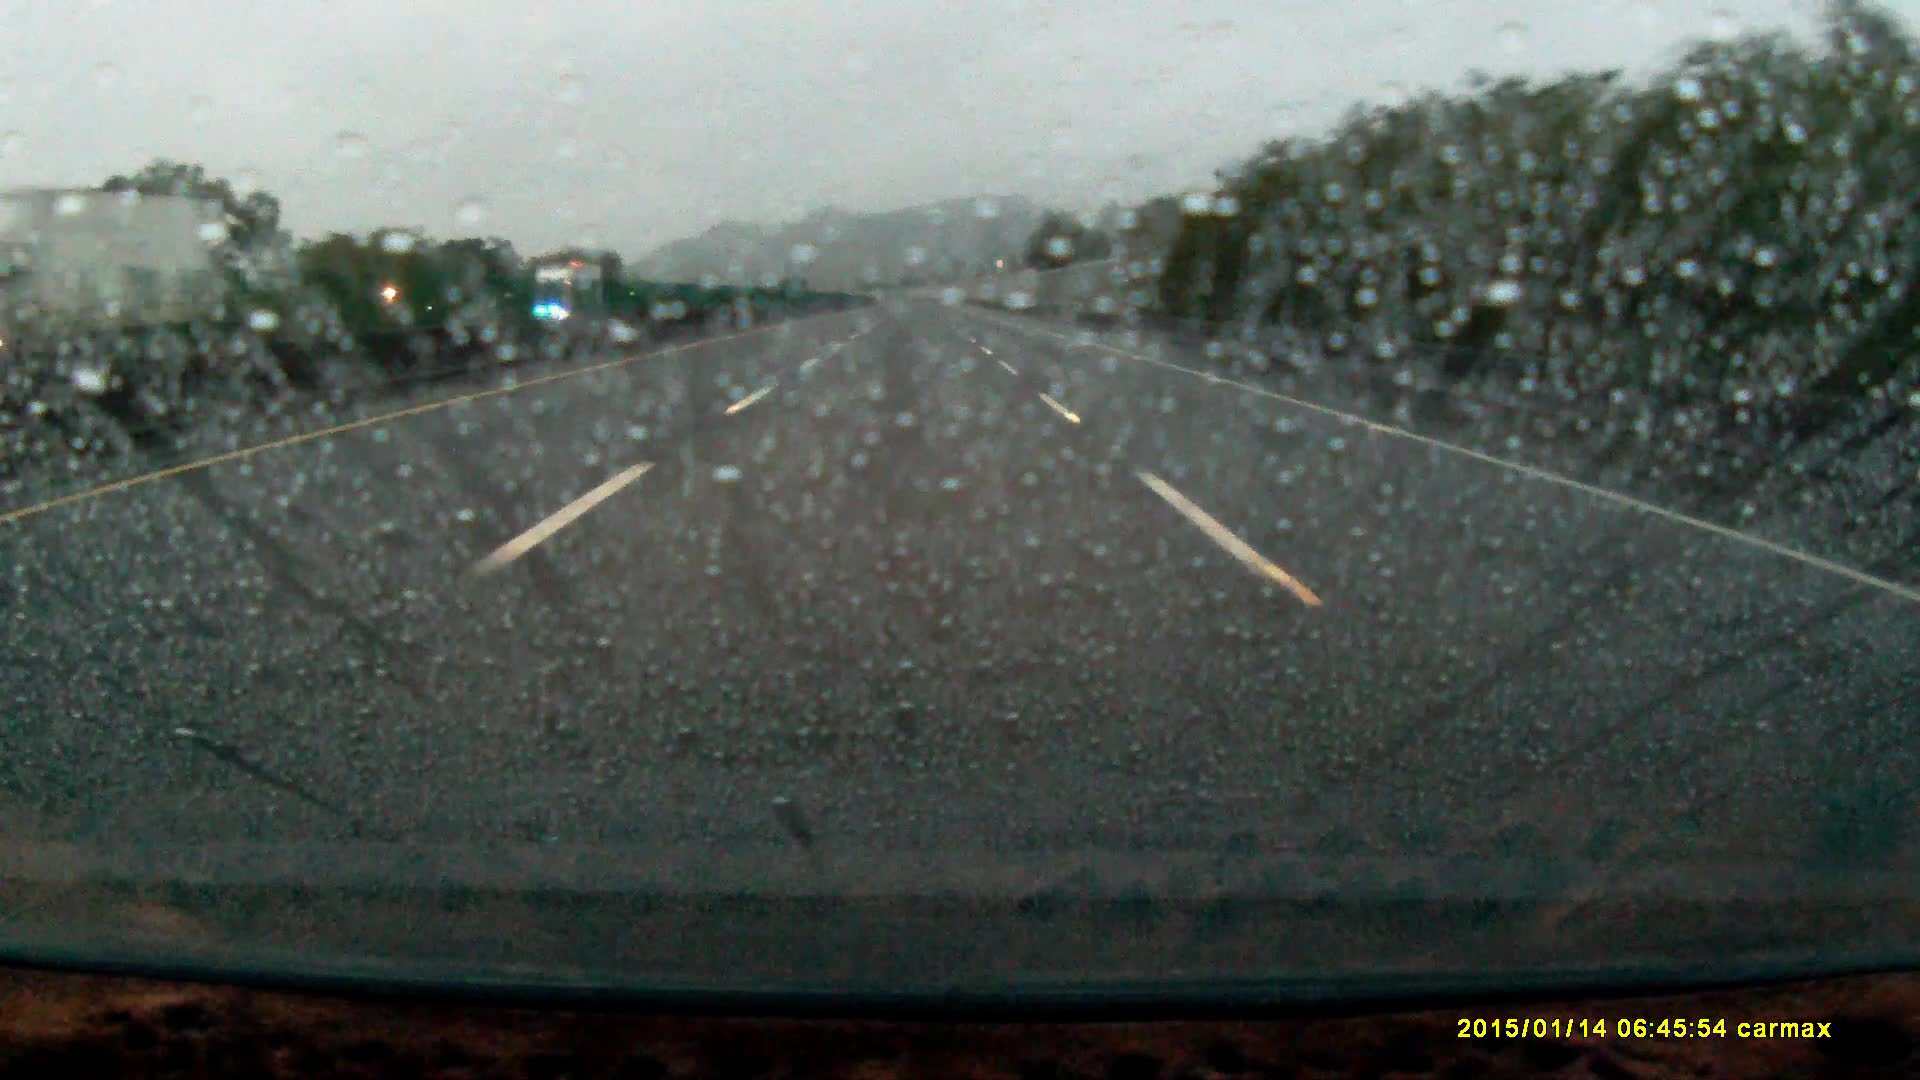vehicle: (1, 190, 233, 377), (531, 262, 608, 328)
